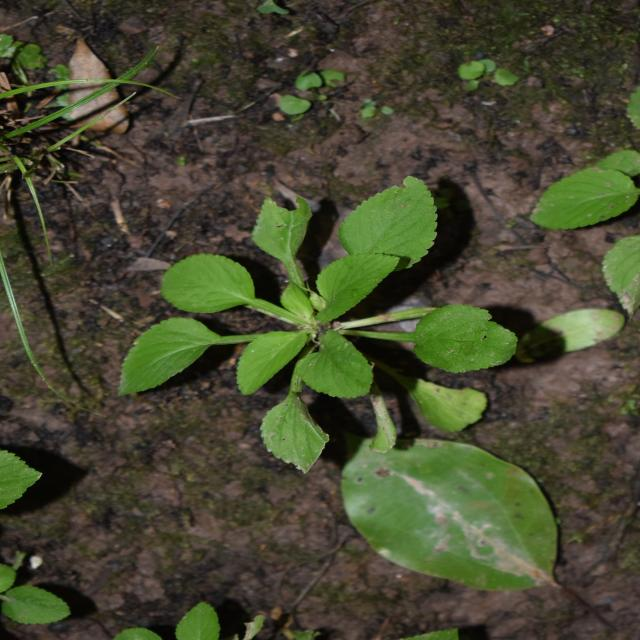Viola: (200, 117, 459, 503)
